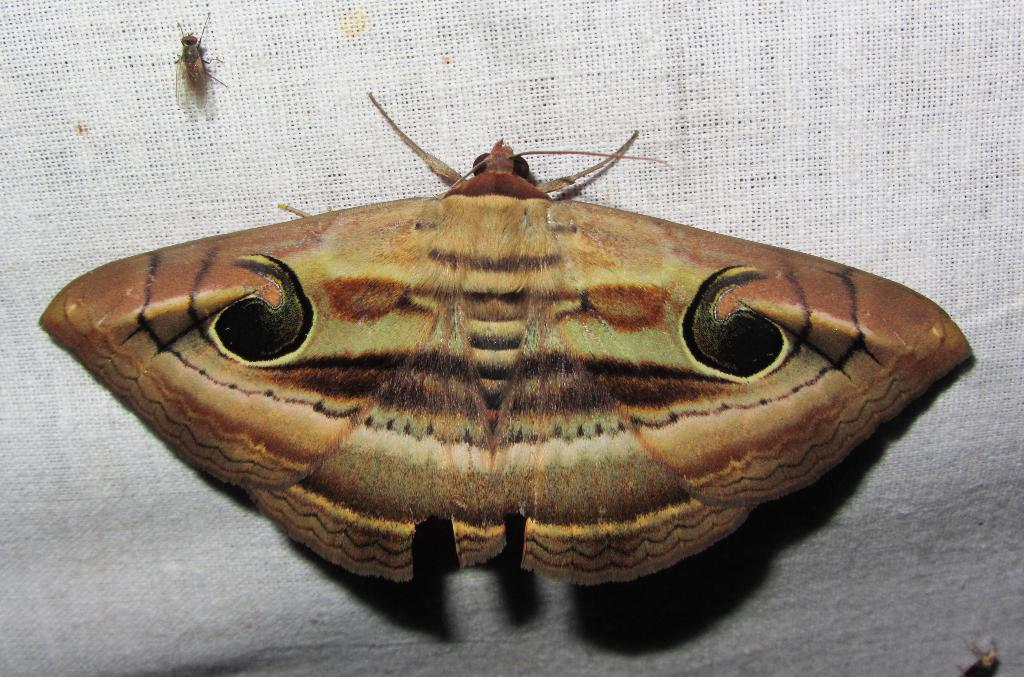Butterfly: (57, 164, 993, 600)
